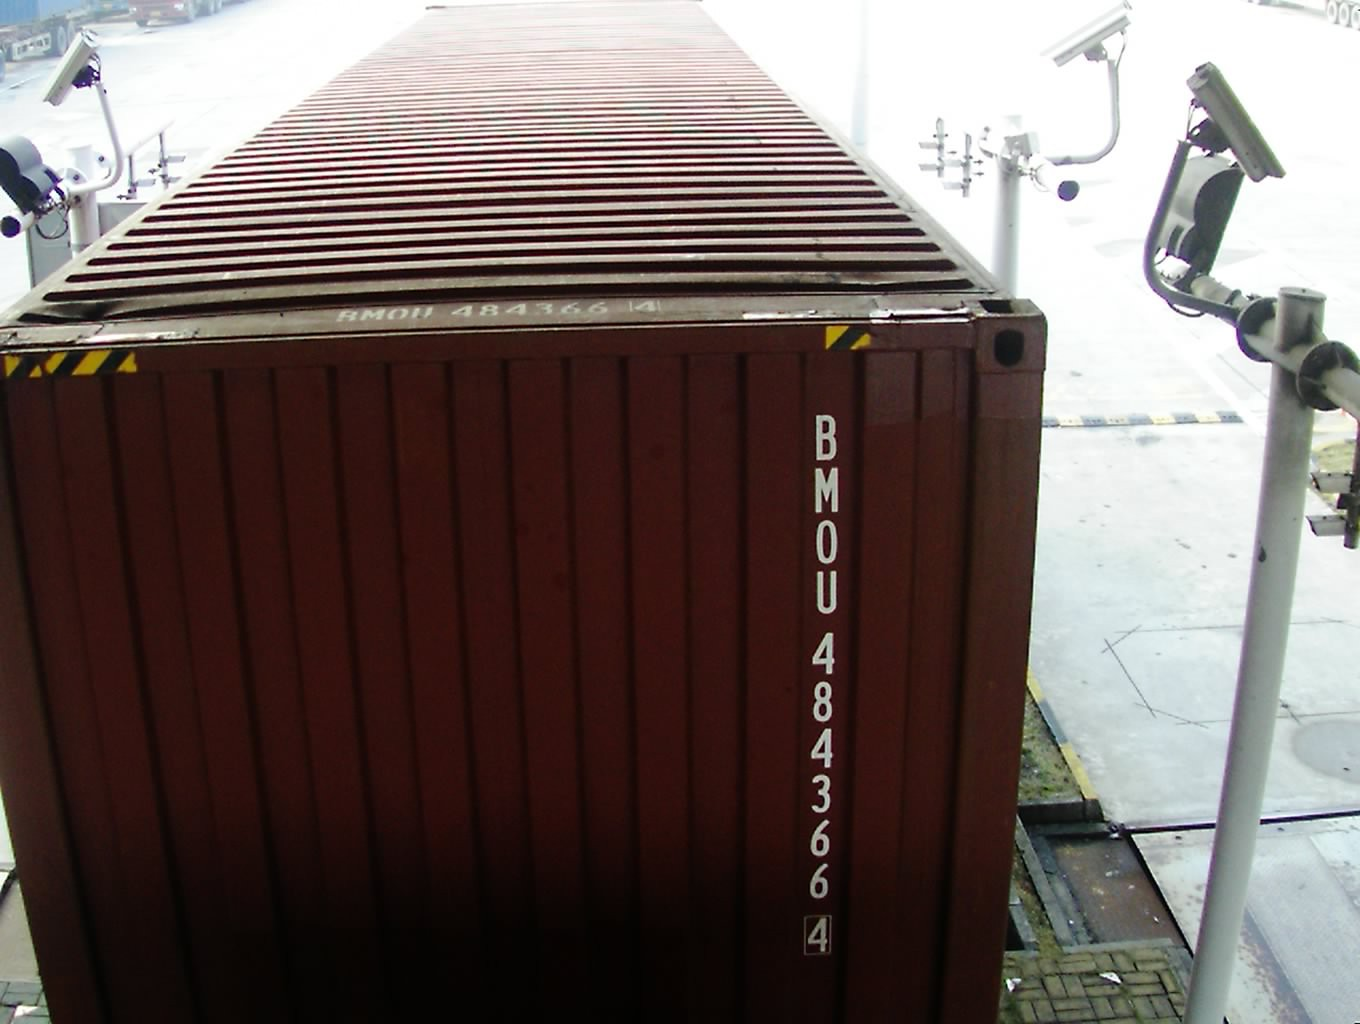words: (794, 404, 849, 962)
